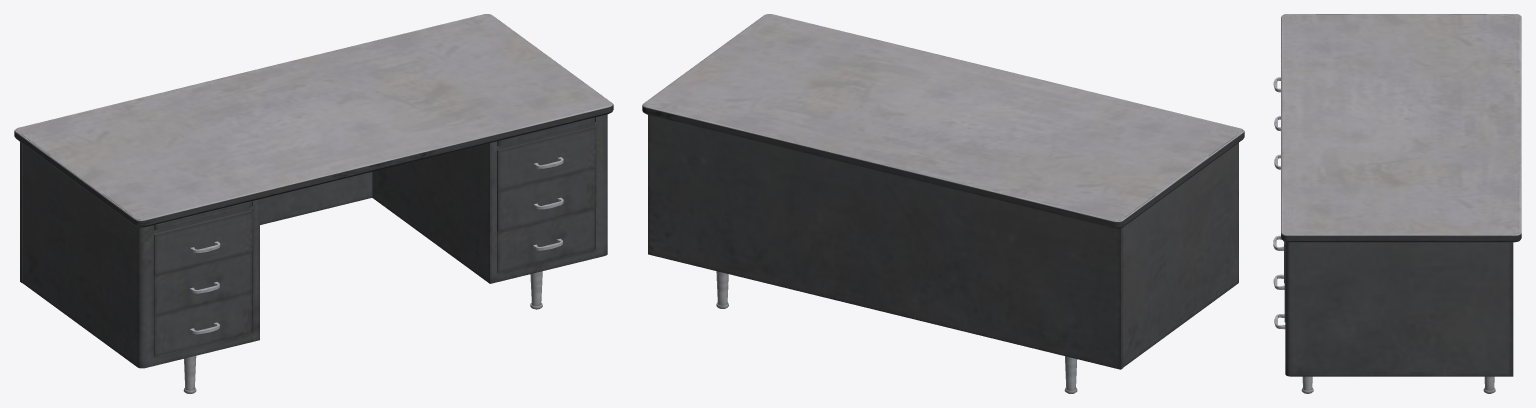
File: metal_office_desk.gltf
The picture shows the model from 3 angles, left to right: view 1: azimuth 30°, elevation 25°; view 2: azimuth 150°, elevation 25°; view 3: azimuth 270°, elevation 25°; orthographic projection. The views are drawn at different scales.
Bounding box in the file's own units: 2 × 0.7875 × 0.947.
1 material, 1 textured.
